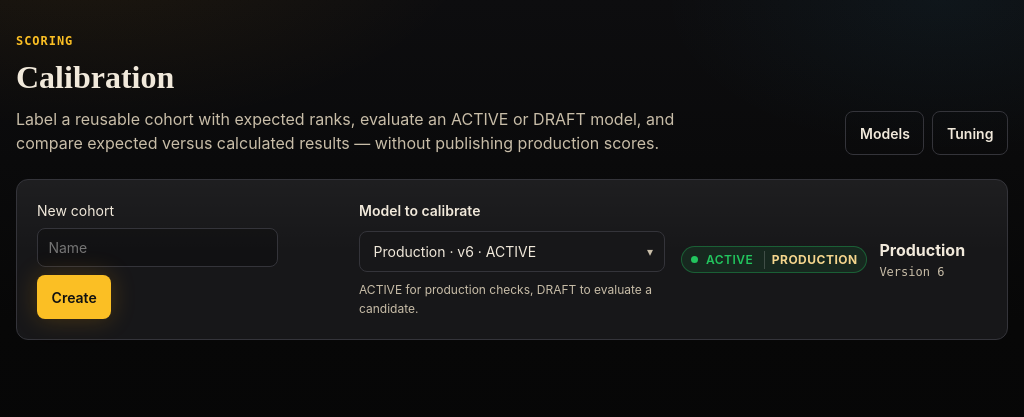
AdminCalibrationPage › shows Open in Tuning when a DRAFT model is selected
The image size is (1024, 417).
Select "Candidate · v7 · DRAFT" in the 1st dropdown with test id "admin-select" at [512, 252], box [359,231,665,272]
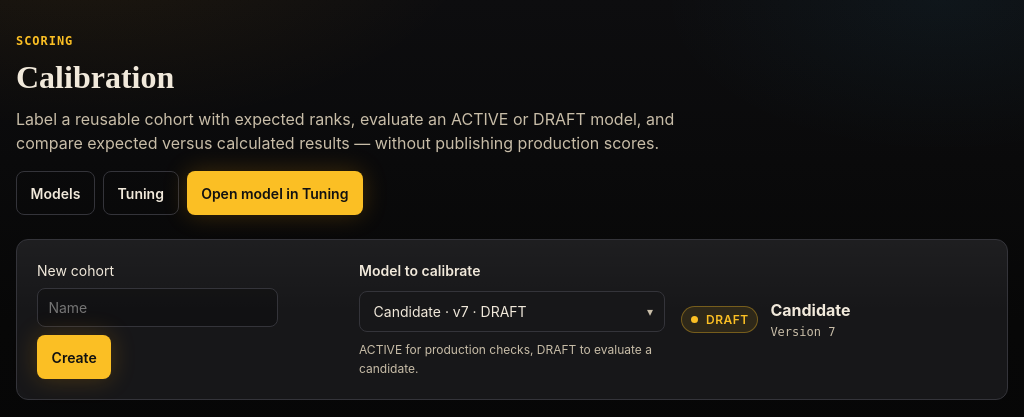
Now the link with test id "open-in-tuning" is shown, box [186,171,363,215]
